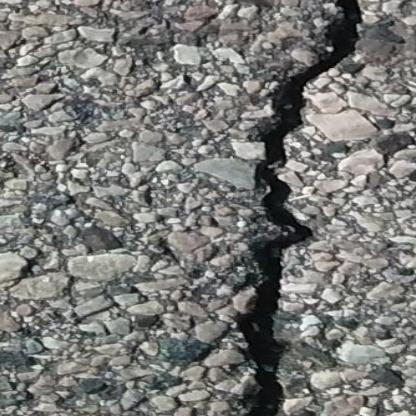Cracks: (236, 0, 367, 416)
